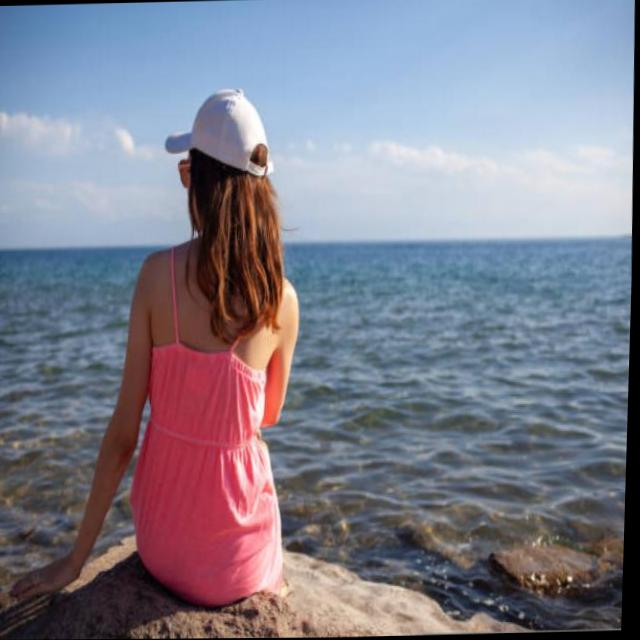no helmet: (153, 83, 291, 259)
